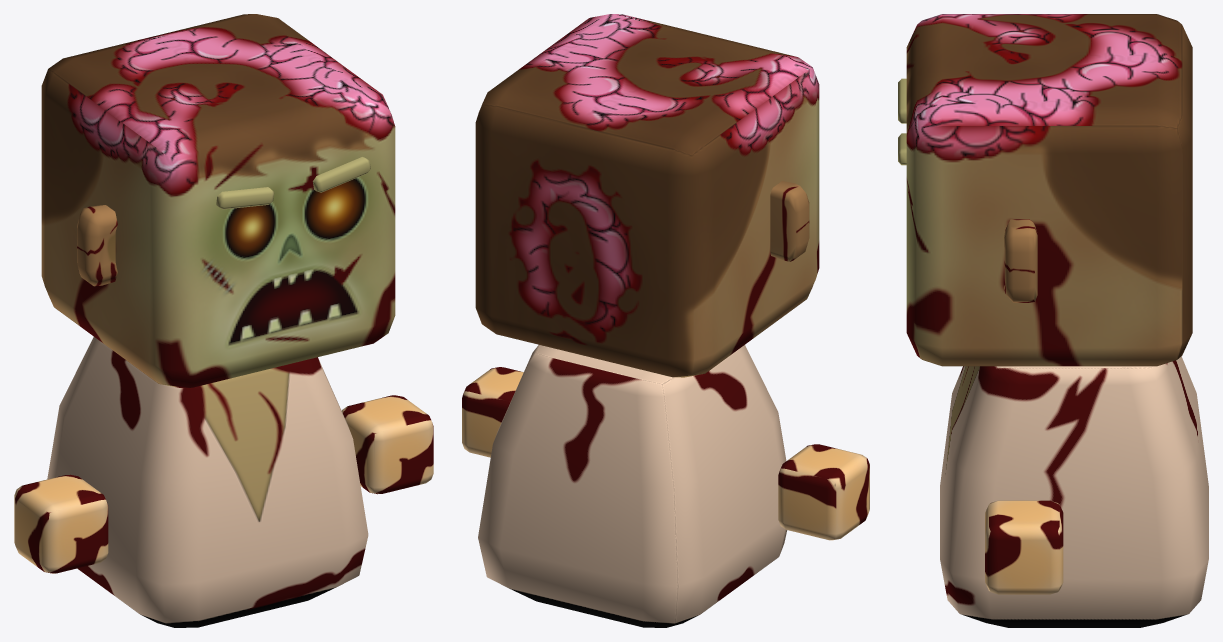
The model's file is Group_zombiee.fbx.
3 renders of one model, left to right at view 1: azimuth 30°, elevation 25°; view 2: azimuth 150°, elevation 25°; view 3: azimuth 270°, elevation 25°, orthographic. The views are drawn at different scales.
Parts seen in each view (by area): view 1: polySurface7, polySurface8; view 2: polySurface7, polySurface8; view 3: polySurface7, polySurface8.
Part boxes in pixels (x1=…): polySurface7: x1=41, y1=14, x2=395, y2=387; polySurface8: x1=14, y1=337, x2=433, y2=627; polySurface7: x1=475, y1=14, x2=819, y2=377; polySurface8: x1=462, y1=345, x2=869, y2=627; polySurface7: x1=898, y1=14, x2=1192, y2=366; polySurface8: x1=940, y1=356, x2=1208, y2=627.
Size of the model in its own units: 2.9 by 3.73 by 1.95.
1 material, 1 textured.
